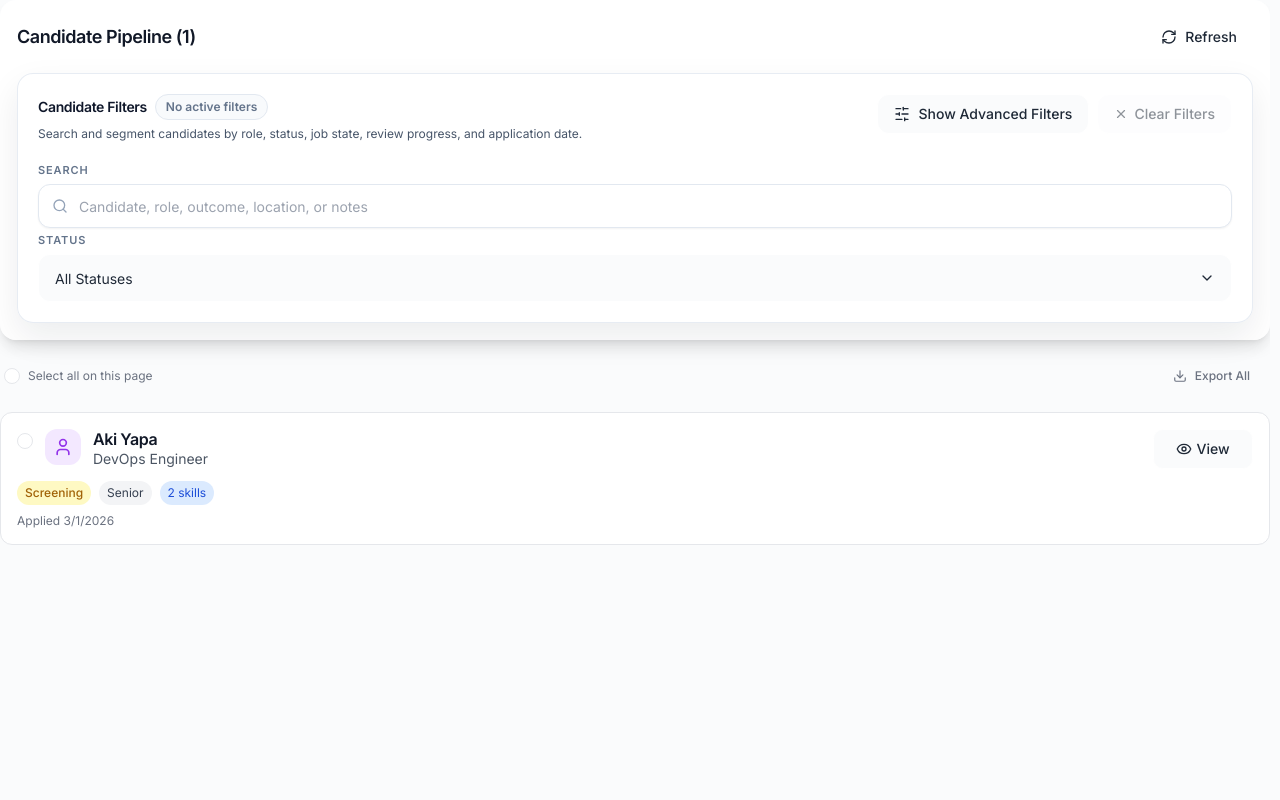
Test: CandidateManager role experience › uses a mobile-first candidate details layout for the application modal
Check: the heading "Candidate Pipeline (1)" is shown, box [17,23,196,51]
Click the button "View": (1203, 449) [1153,429,1253,469]
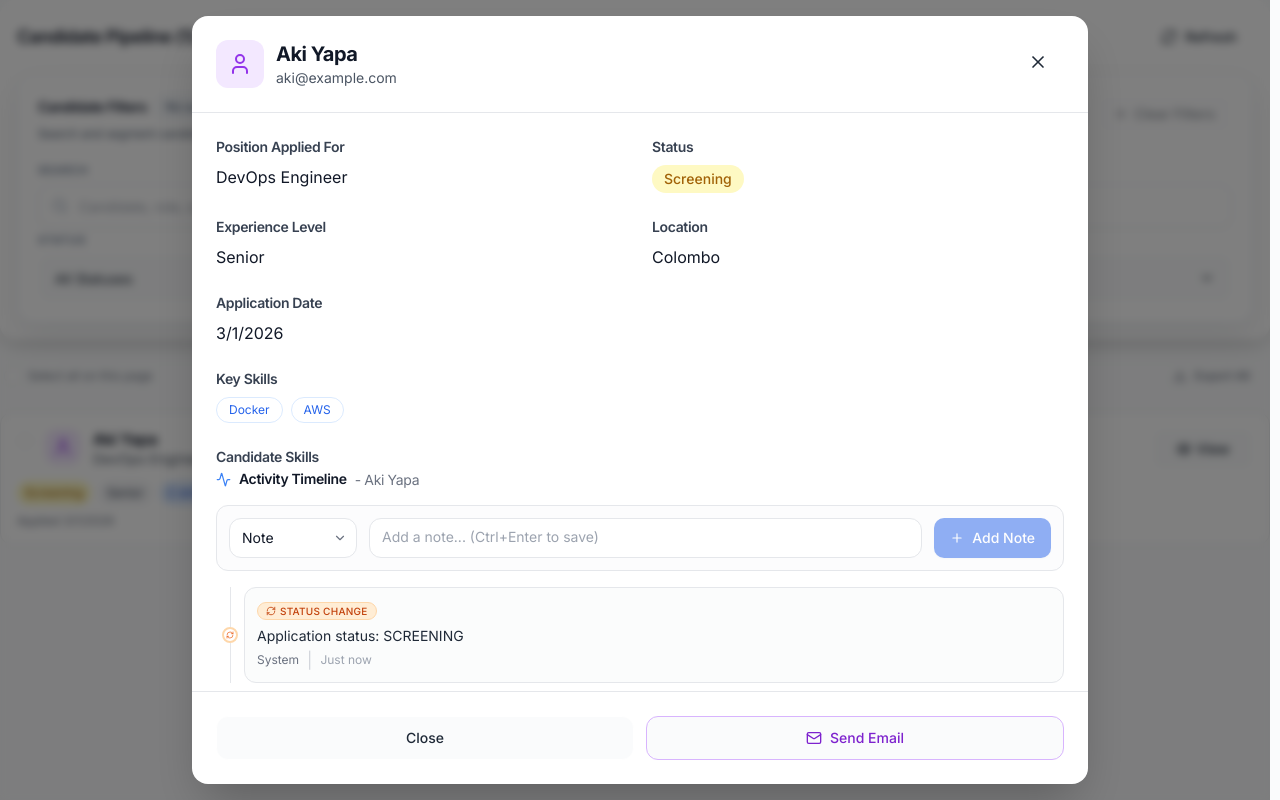
Check: the heading "Position Applied For" is shown, box [216,138,344,155]
